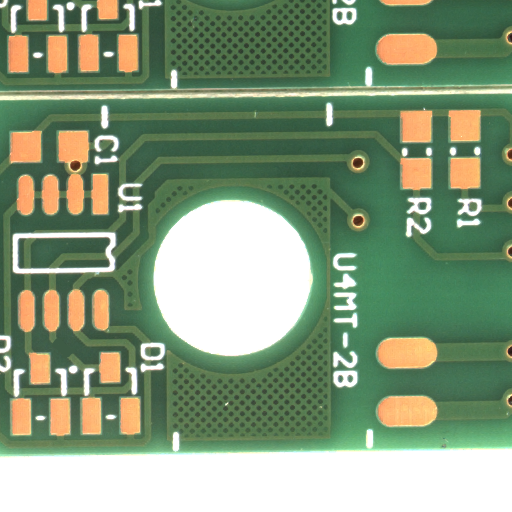Open_circuit: (63, 349, 87, 370)
